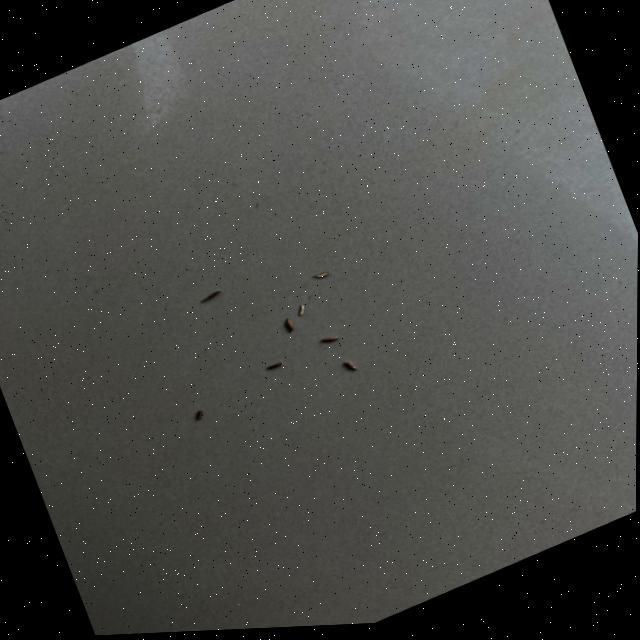Wereng: (193, 282, 229, 311), (303, 262, 335, 290), (336, 352, 363, 379), (276, 313, 301, 339), (260, 355, 289, 377), (315, 331, 343, 352), (186, 405, 210, 429), (290, 298, 313, 321)
